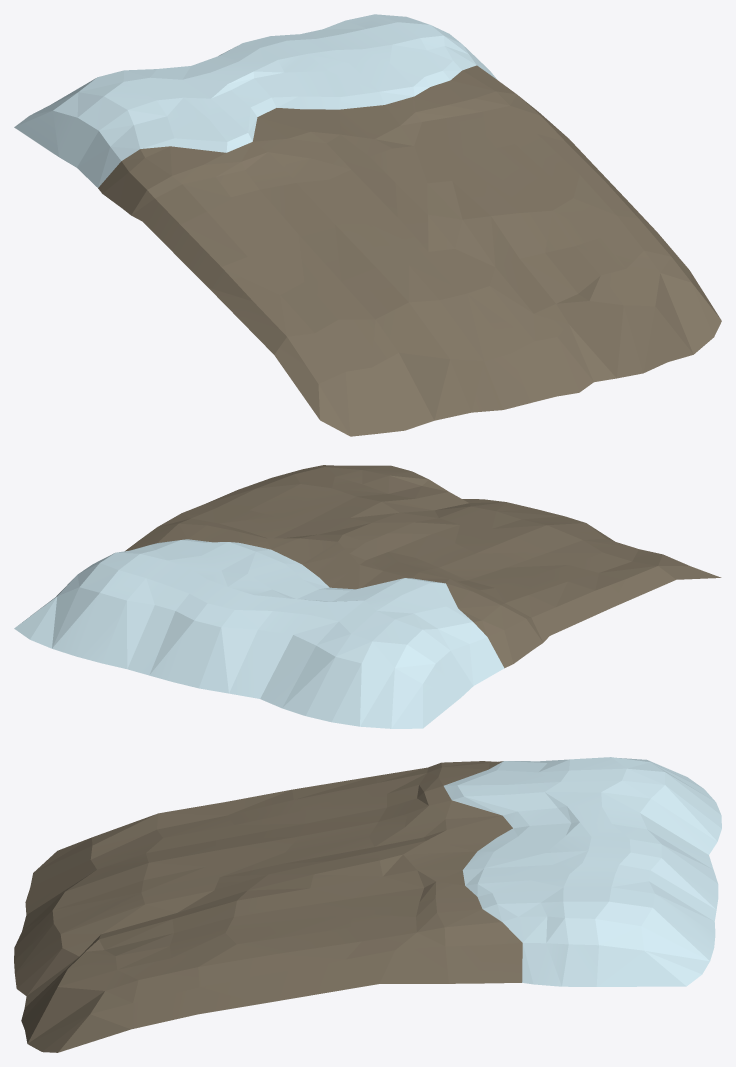
The model's file is Playa_Larga01.glb.
The picture shows the model from 3 angles, top to bottom: view 1: azimuth 30°, elevation 25°; view 2: azimuth 150°, elevation 25°; view 3: azimuth 270°, elevation 25°; orthographic projection. The views are drawn at different scales.
Parts seen in each view (by area): view 1: SM_Env_Beach_Long_01_Snow; view 2: SM_Env_Beach_Long_01_Snow; view 3: SM_Env_Beach_Long_01_Snow.
Part boxes in pixels (left/top/right/bottom): SM_Env_Beach_Long_01_Snow: left=14, top=14, right=721, bottom=436; SM_Env_Beach_Long_01_Snow: left=14, top=465, right=721, bottom=728; SM_Env_Beach_Long_01_Snow: left=14, top=757, right=721, bottom=1052.
Size of the model in its own units: 11.18 by 3.47 by 15.84.
Materials: 1 (1 with a texture image).
